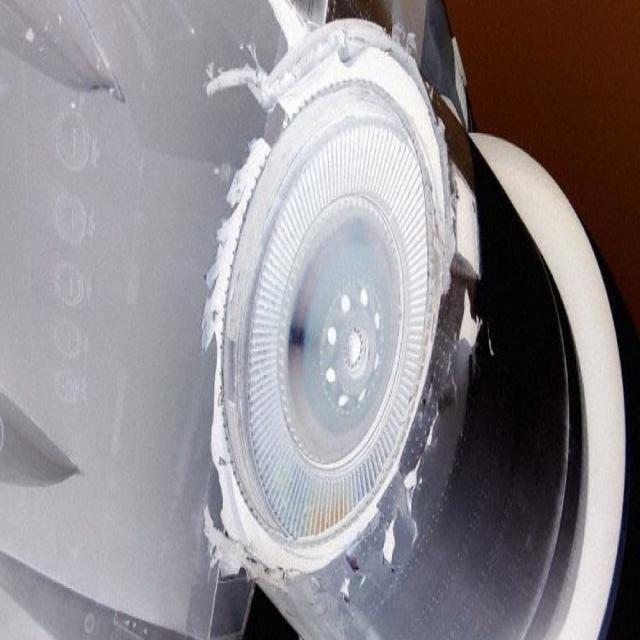crack: (338, 291, 486, 614)
